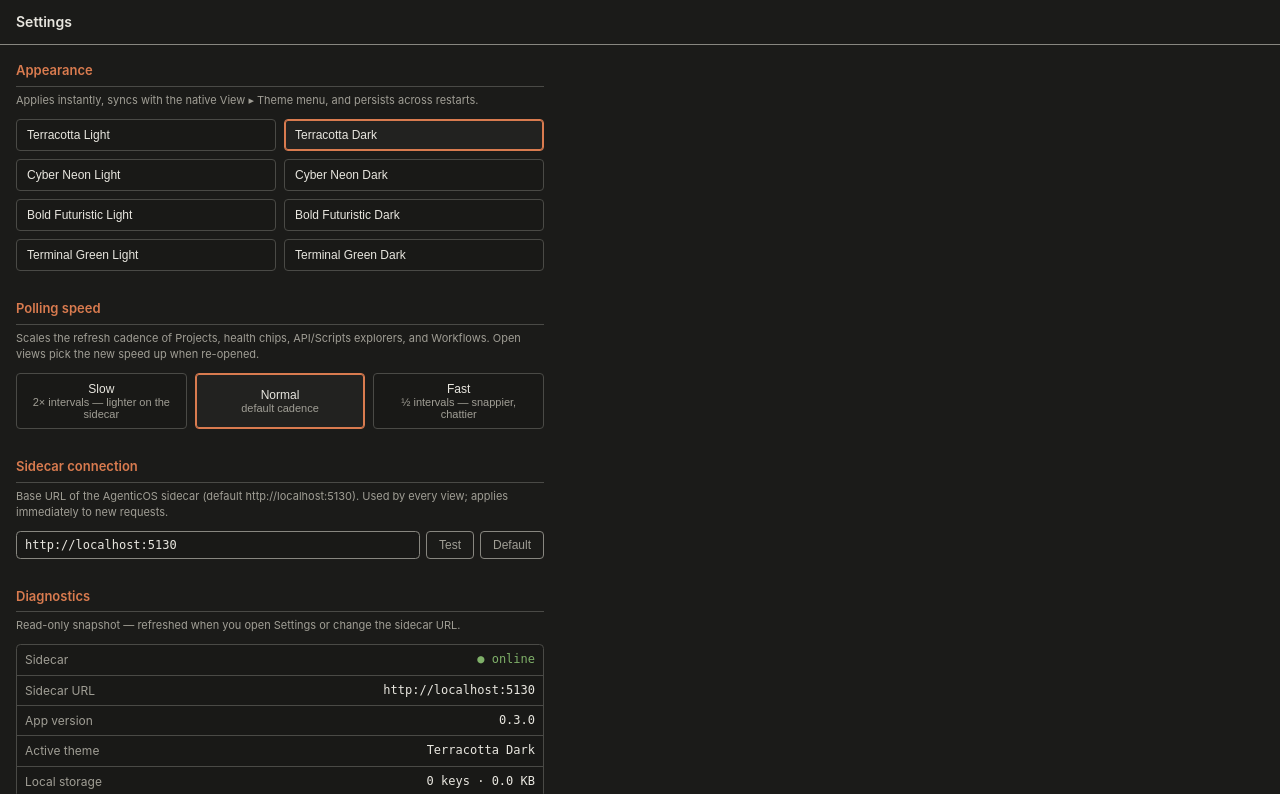
EnvironmentPanel (Settings) › Test button reports online when /api/health responds ok
Click the button with test id "test-connection" at (450, 544), box [426,530,474,558]
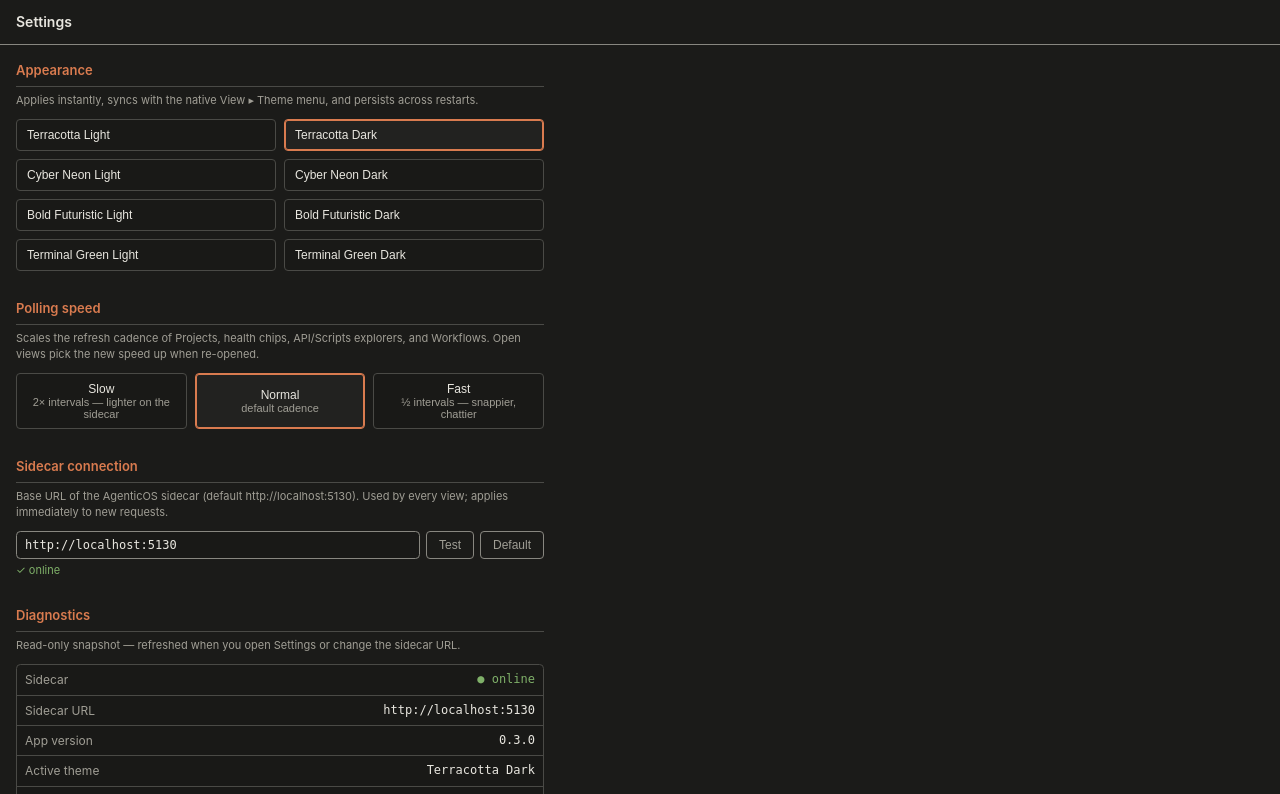
Now the text with test id "test-result" shows "online", box [29,562,60,576]
